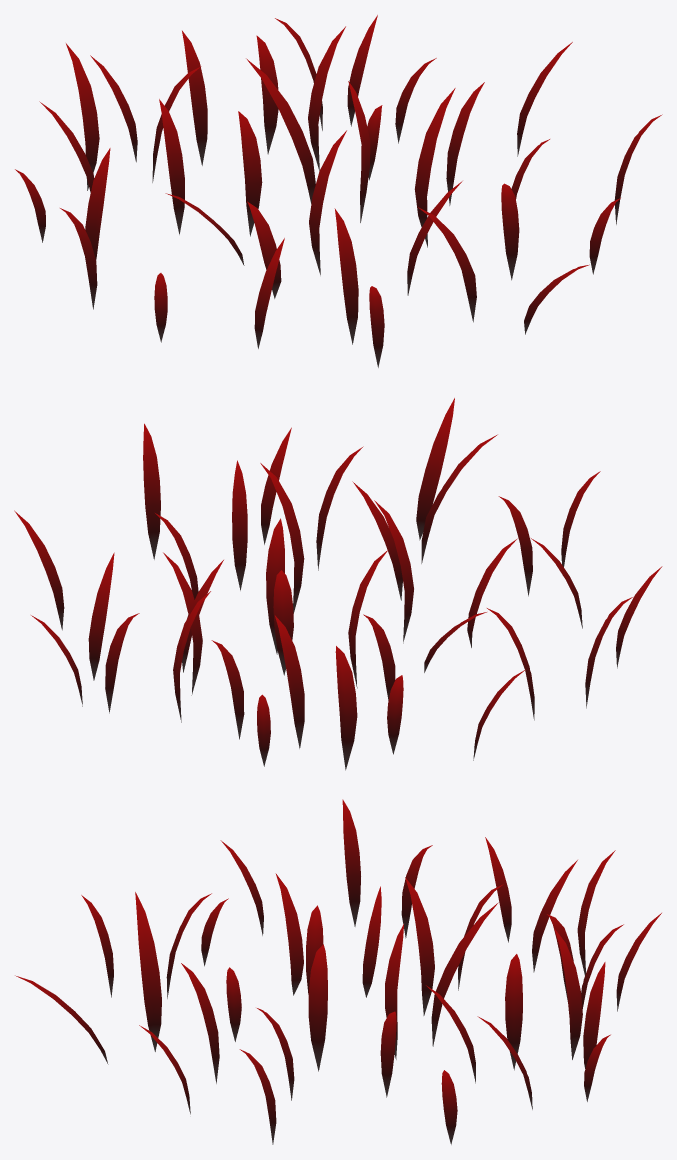
Rendered from Grass.fbx.
3 views of the same model, one above another, from view 1: azimuth 30°, elevation 25°; view 2: azimuth 150°, elevation 25°; view 3: azimuth 270°, elevation 25° (orthographic). The views are drawn at different scales.
Parts seen in each view (by area): view 1: Grass; view 2: Grass; view 3: Grass.
Boxes of the visible parts, <box> form: Grass: <box>15,15,662,367</box>; Grass: <box>14,398,662,770</box>; Grass: <box>15,799,661,1144</box>.
Size of the model in its own units: 3.14 by 0.8016 by 3.32.
